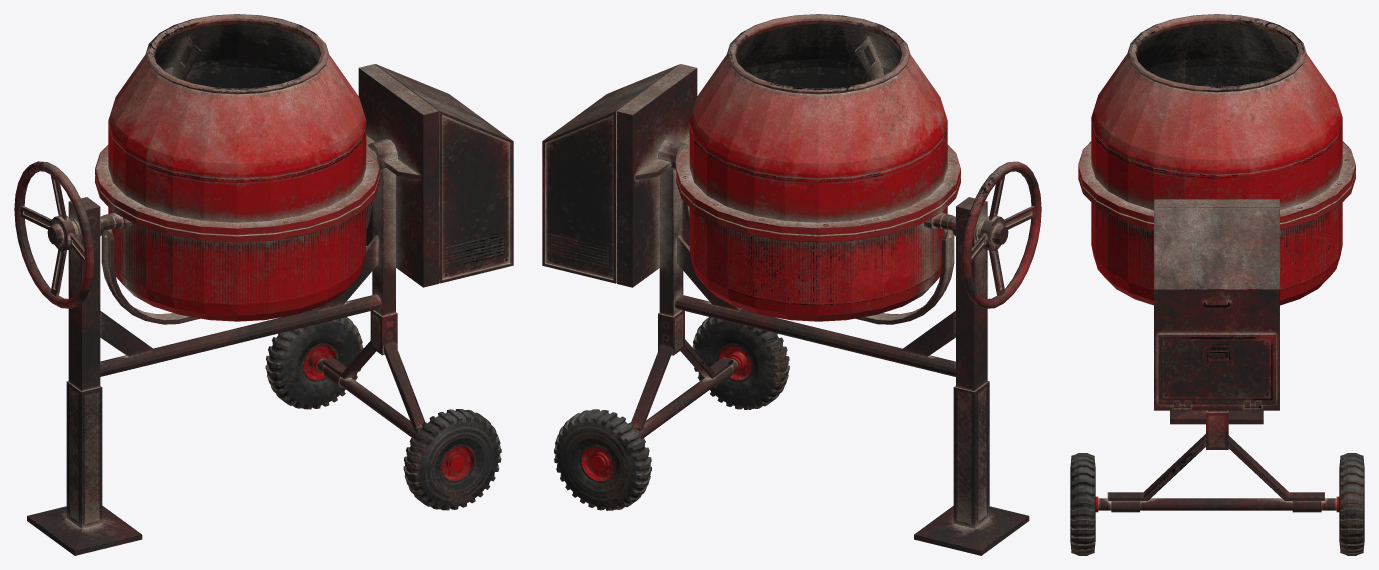
File: Old Concrete Mixer Low-poly 3D model.fbx
3 views of the same model, side by side, from view 1: azimuth 30°, elevation 25°; view 2: azimuth 150°, elevation 25°; view 3: azimuth 270°, elevation 25° (orthographic). The views are drawn at different scales.
Visible parts, largest first — view 1: Mesh_Polygon_7, Mesh_Polygon_9, Mesh_Polygon, Mesh_Polygon_15, Mesh_Polygon_3, Mesh_Polygon_8, Mesh_Polygon_5, Mesh_Polygon_6, Mesh_Polygon_13, Mesh_Polygon_14, Mesh_Polygon_16; view 2: Mesh_Polygon_7, Mesh_Polygon_9, Mesh_Polygon, Mesh_Polygon_15, Mesh_Polygon_3, Mesh_Polygon_8, Mesh_Polygon_5, Mesh_Polygon_6, Mesh_Polygon_14, Mesh_Polygon_13, Mesh_Polygon_2; view 3: Mesh_Polygon_7, Mesh_Polygon_9, Mesh_Polygon_15, Mesh_Polygon, Mesh_Polygon_13, Mesh_Polygon_14.
Part boxes in pixels (<box>): Mesh_Polygon_7: <box>95,14,379,321</box>; Mesh_Polygon_9: <box>358,64,513,287</box>; Mesh_Polygon: <box>27,135,420,555</box>; Mesh_Polygon_15: <box>265,308,501,510</box>; Mesh_Polygon_3: <box>100,235,381,376</box>; Mesh_Polygon_8: <box>14,161,94,308</box>; Mesh_Polygon_5: <box>20,175,131,296</box>; Mesh_Polygon_6: <box>101,201,372,324</box>; Mesh_Polygon_13: <box>384,342,424,431</box>; Mesh_Polygon_14: <box>323,341,376,388</box>; Mesh_Polygon_16: <box>172,36,201,81</box>; Mesh_Polygon_7: <box>676,14,960,321</box>; Mesh_Polygon_9: <box>542,64,697,287</box>; Mesh_Polygon: <box>634,135,1029,555</box>; Mesh_Polygon_15: <box>554,309,789,510</box>; Mesh_Polygon_3: <box>674,235,955,376</box>; Mesh_Polygon_8: <box>961,161,1041,308</box>; Mesh_Polygon_5: <box>924,175,1035,296</box>; Mesh_Polygon_6: <box>683,201,954,324</box>; Mesh_Polygon_14: <box>631,344,671,431</box>; Mesh_Polygon_13: <box>680,339,733,387</box>; Mesh_Polygon_2: <box>854,36,883,81</box>; Mesh_Polygon_7: <box>1078,14,1355,305</box>; Mesh_Polygon_9: <box>1154,199,1279,410</box>; Mesh_Polygon_15: <box>1070,453,1364,555</box>; Mesh_Polygon: <box>1170,410,1263,449</box>; Mesh_Polygon_13: <box>1107,434,1205,512</box>; Mesh_Polygon_14: <box>1228,435,1324,512</box>.
Bounding box in the file's own units: 21.45 × 20.51 × 12.71.
Materials: 1 (1 with a texture image).
